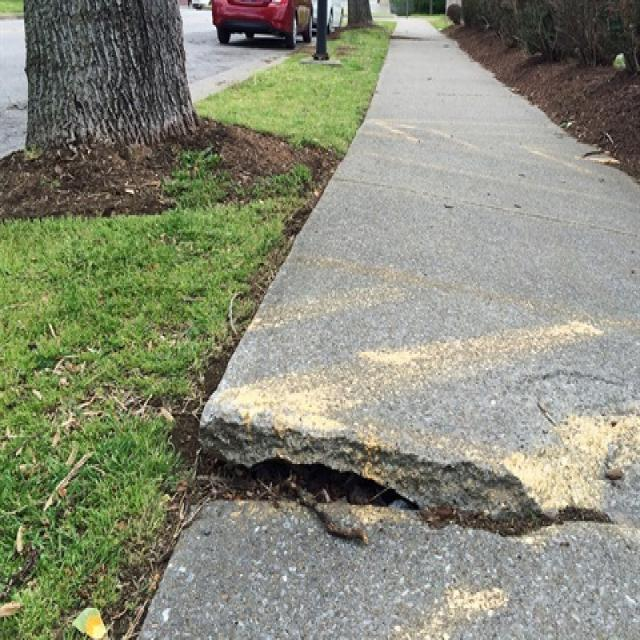hole: (157, 390, 558, 604)
